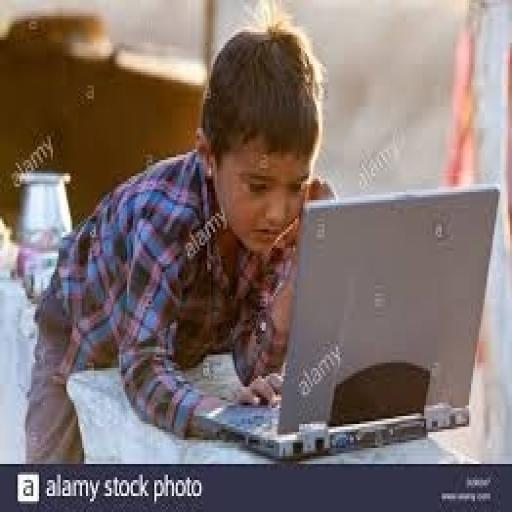using_laptop: (192, 181, 500, 459)
